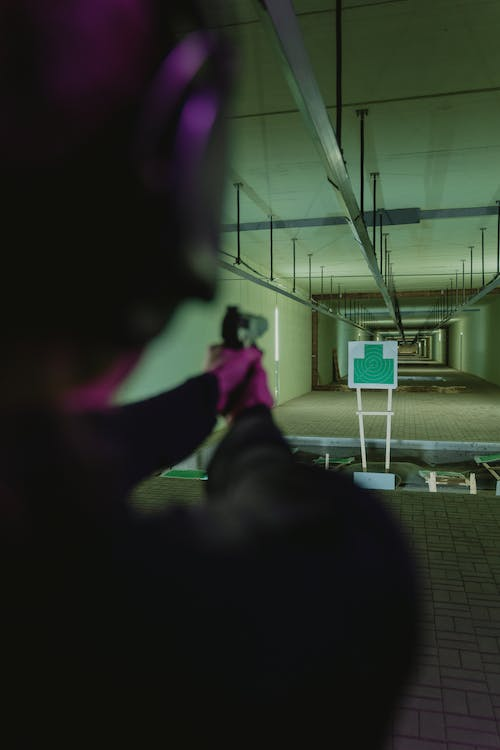gun: (215, 298, 272, 355)
